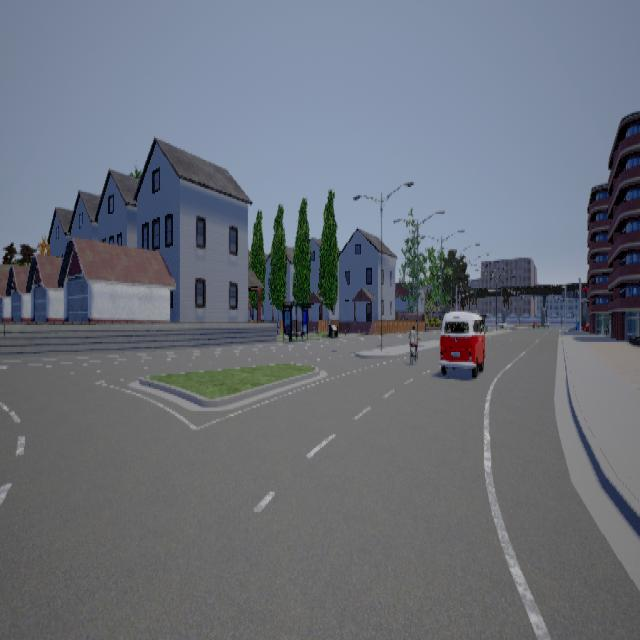bike: (406, 325, 420, 362)
vehicle: (438, 310, 487, 377)
